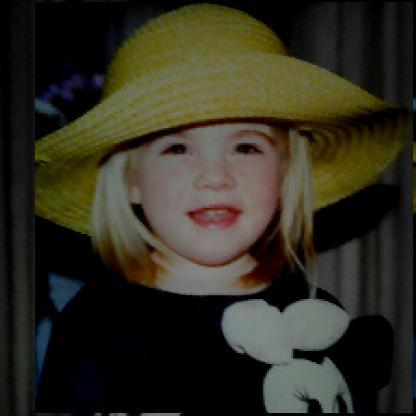child: (36, 3, 415, 415)
